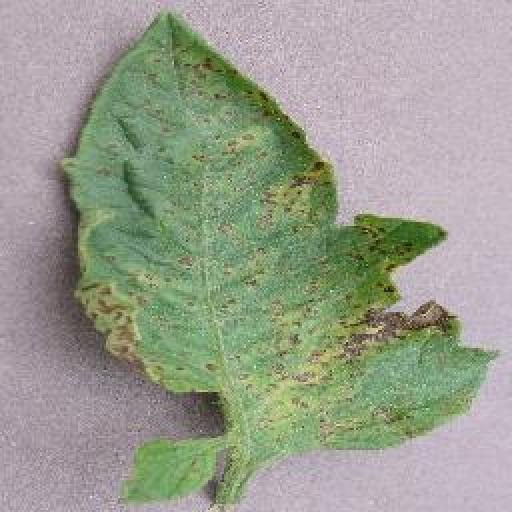disease_tomato: (55, 9, 502, 456)
